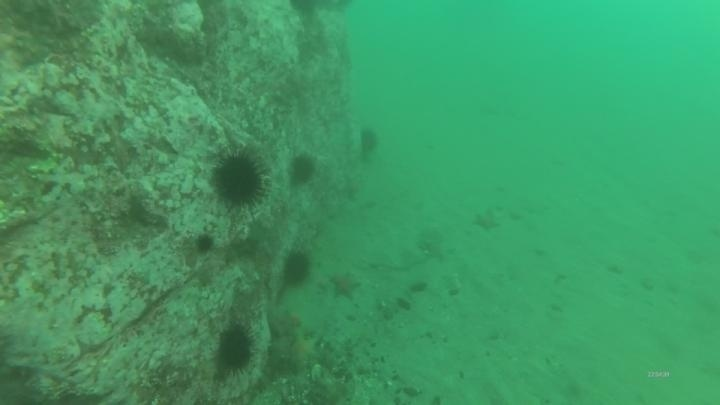echinus: (209, 149, 269, 210), (213, 322, 257, 376), (279, 247, 314, 289), (286, 151, 319, 187), (356, 125, 382, 159), (287, 0, 321, 20), (192, 231, 217, 256)
starfish: (286, 328, 323, 370), (326, 269, 363, 302), (471, 207, 503, 233)
